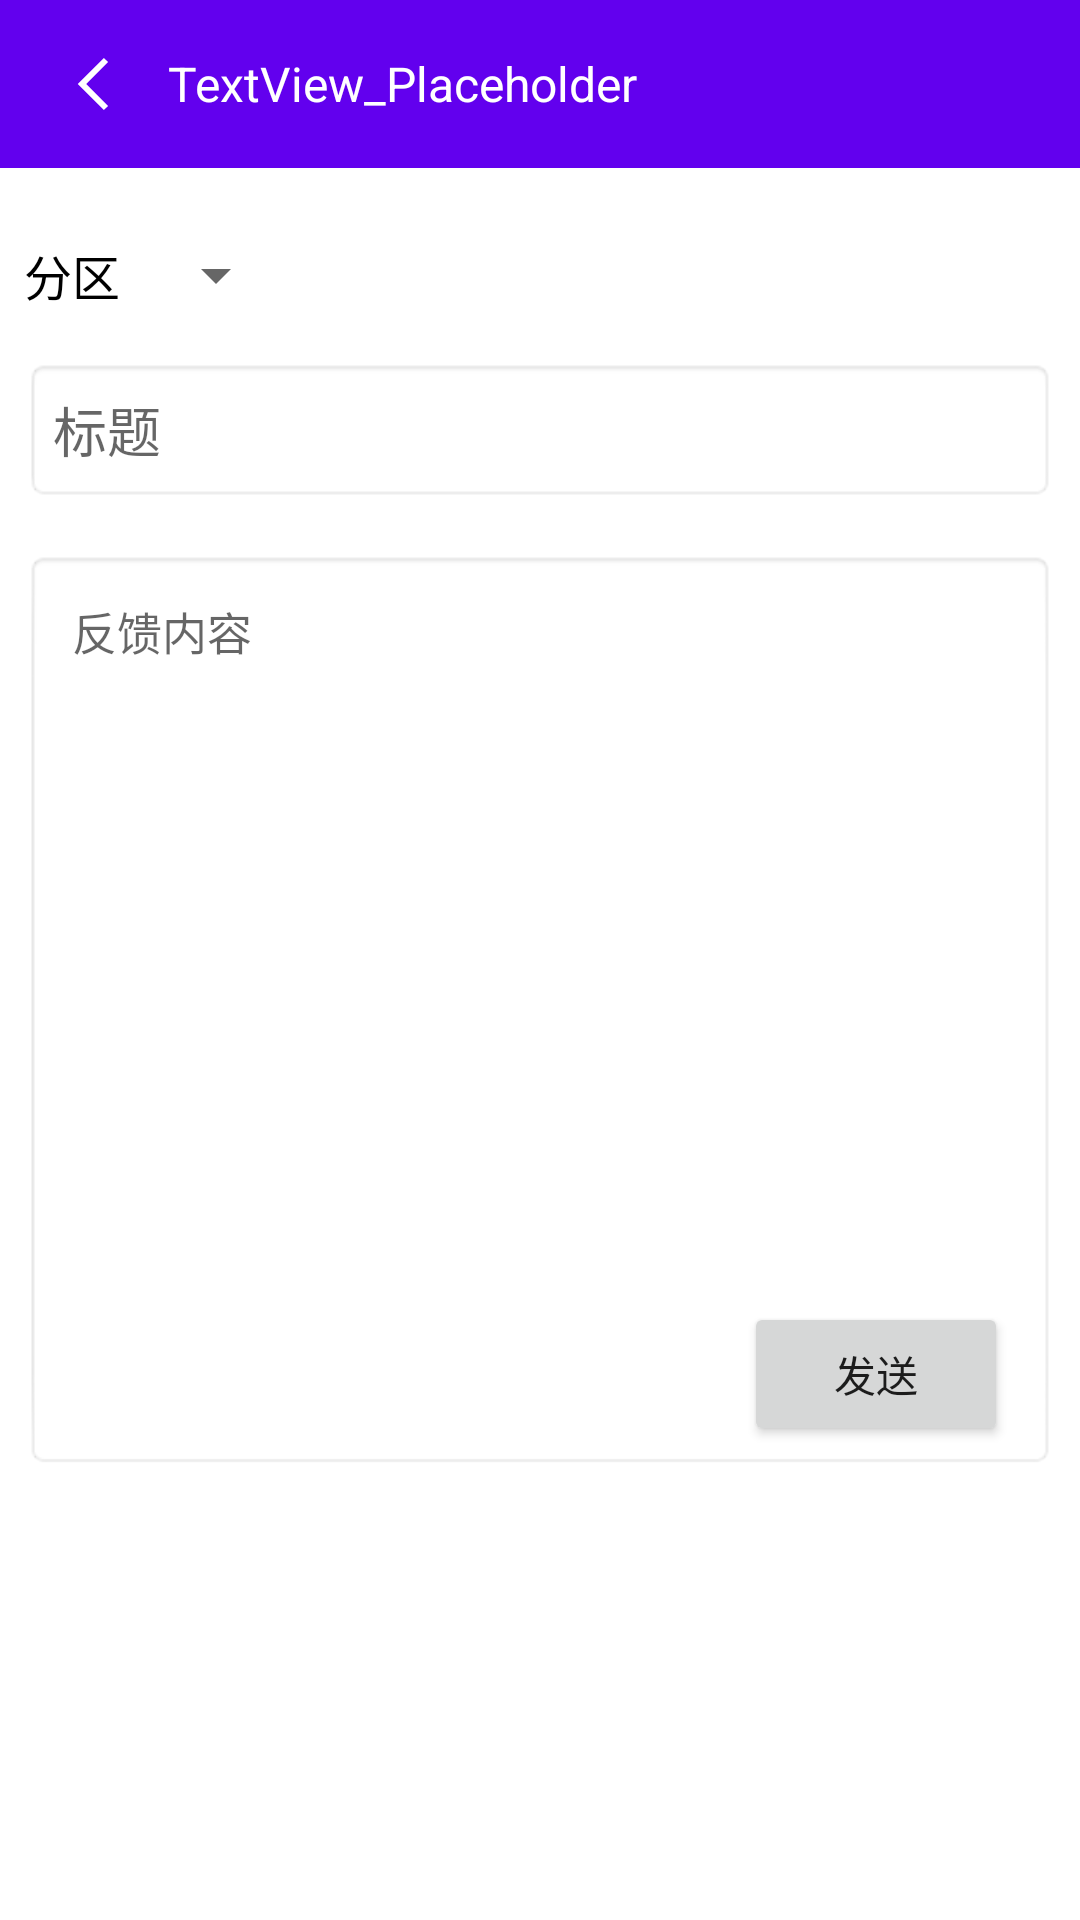

Named icons in this screenshot (1080x1920) and their bounding boxes, (x1, y1, x2, y2):
arrow left: (78, 58, 108, 110)
